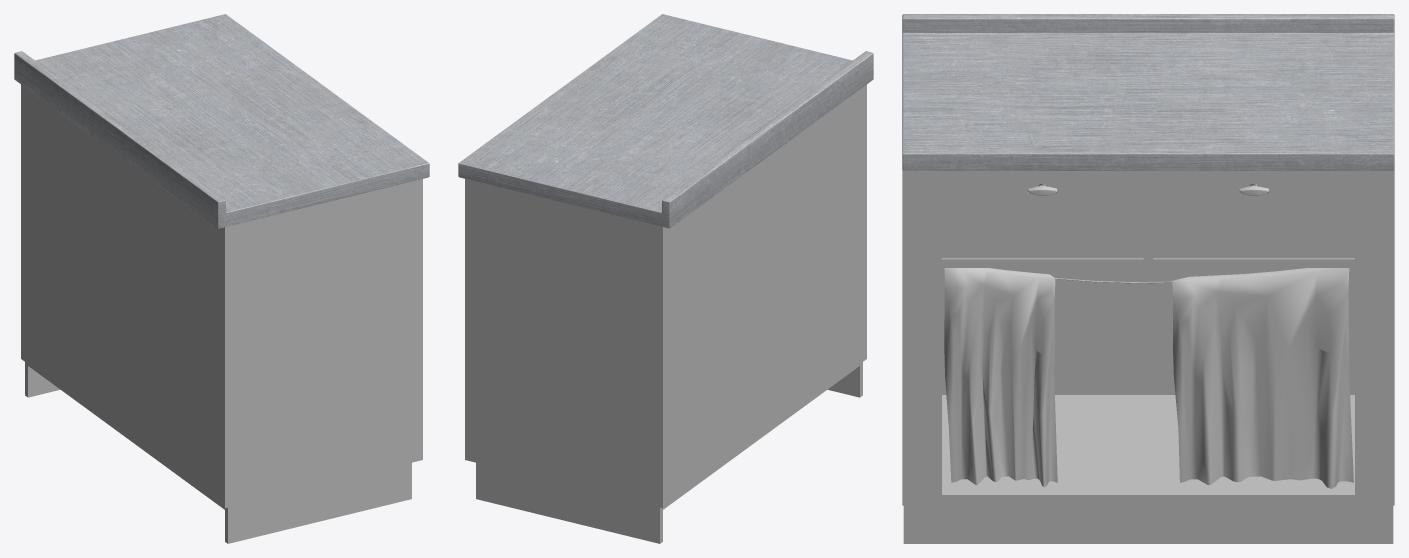
File: SM_KitchenCounterA.FBX
The picture shows the model from 3 angles, left to right: view 1: azimuth 30°, elevation 25°; view 2: azimuth 150°, elevation 25°; view 3: azimuth 270°, elevation 25°; orthographic projection. The views are drawn at different scales.
Visible parts, largest first — view 1: SM_KitchenCounterA; view 2: SM_KitchenCounterA; view 3: SM_KitchenCounterA.
Boxes of the visible parts, bbox=[...] form: SM_KitchenCounterA: bbox=[14, 14, 429, 543]; SM_KitchenCounterA: bbox=[458, 14, 873, 543]; SM_KitchenCounterA: bbox=[902, 14, 1394, 543].
Size of the model in its own units: 60 by 93.24 by 100.
